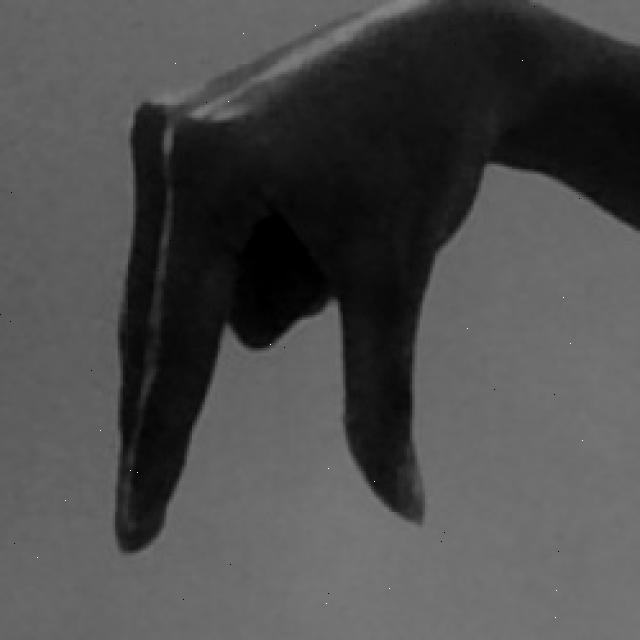Q: (100, 0, 640, 556)
